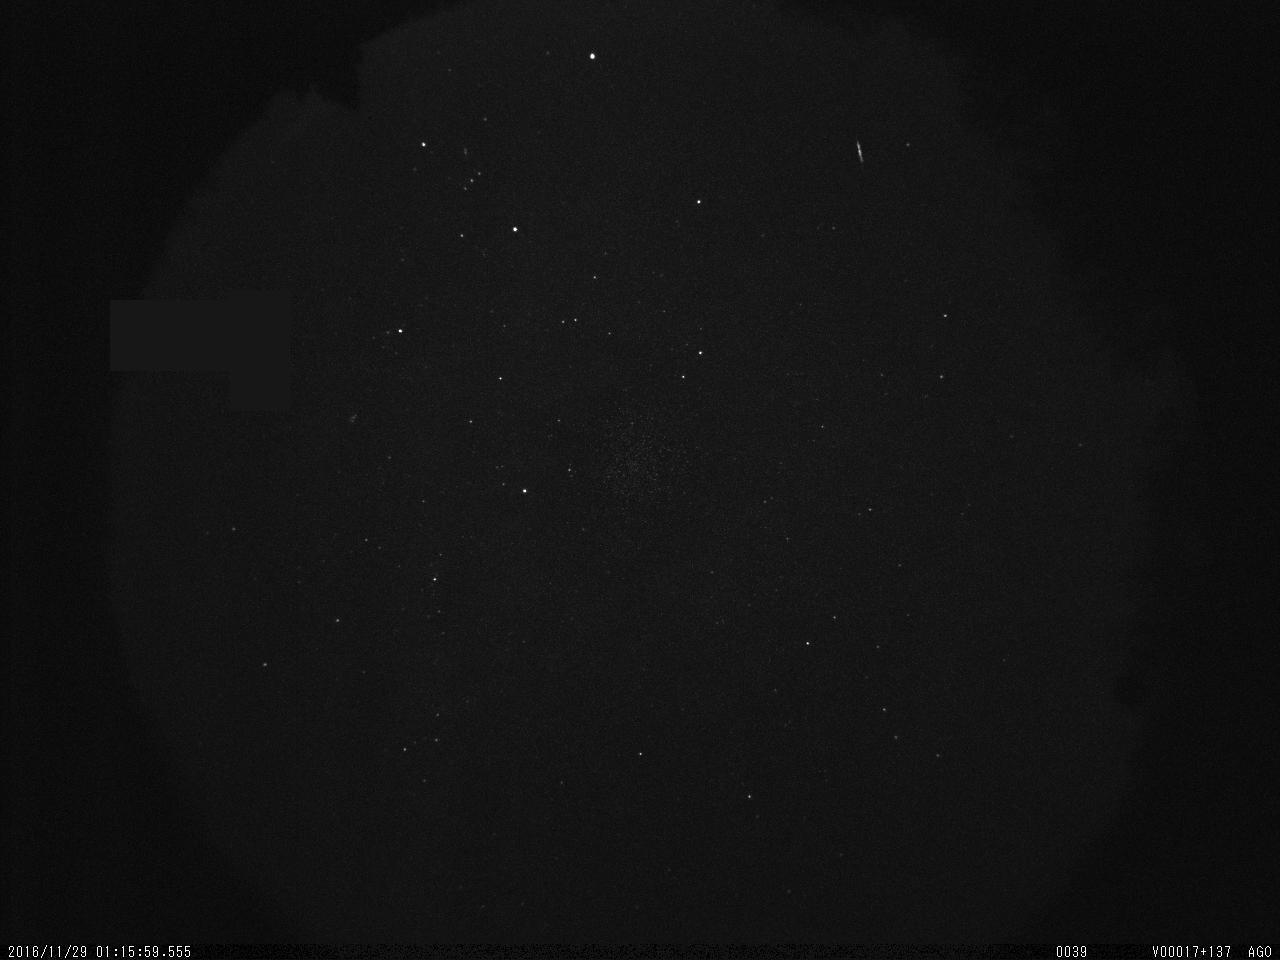meteor: (839, 125, 881, 181)
